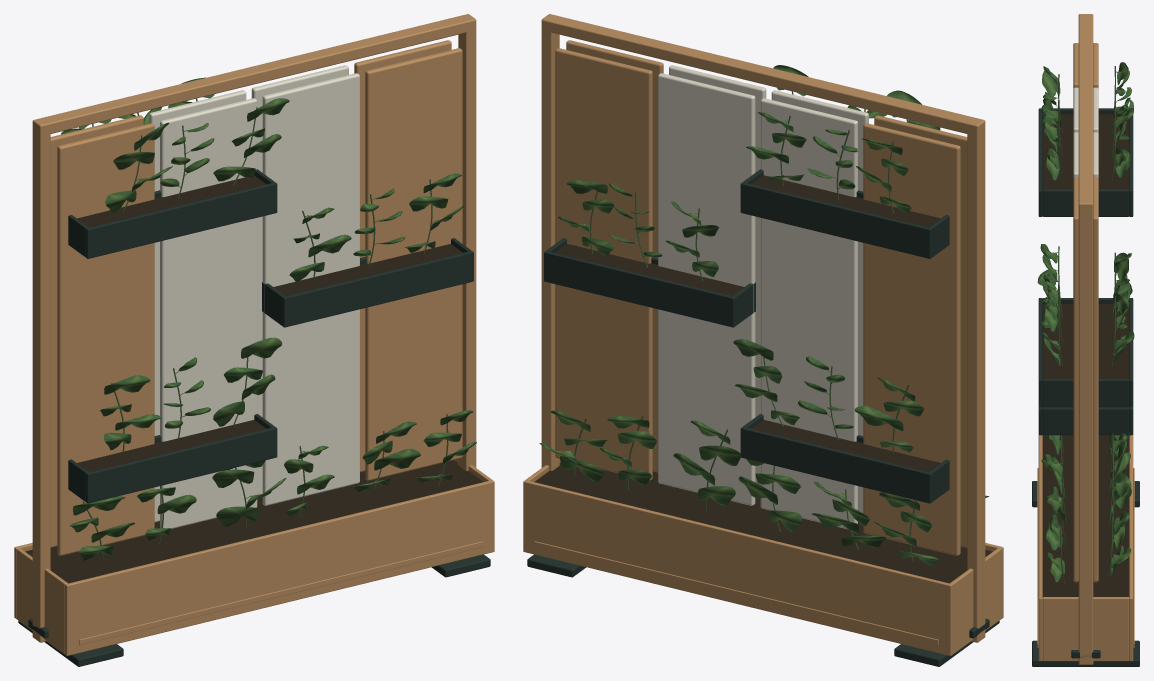
The model's file is botanicalDivider-6.glb.
3 renders of one model, left to right at view 1: azimuth 30°, elevation 25°; view 2: azimuth 150°, elevation 25°; view 3: azimuth 270°, elevation 25°, orthographic. The views are drawn at different scales.
Parts seen in each view (by area): view 1: Botanical_frame_finish, Botanical_ceramic, Botanical_powdercoat, Botanical_recessed_soil, Botanical_living_foliage, Botanical_connected_stems; view 2: Botanical_frame_finish, Botanical_ceramic, Botanical_powdercoat, Botanical_living_foliage, Botanical_recessed_soil, Botanical_connected_stems; view 3: Botanical_frame_finish, Botanical_recessed_soil, Botanical_powdercoat, Botanical_living_foliage, Botanical_connected_stems, Botanical_ceramic, Botanical_leaf_midribs.
Boxes of the visible parts, x1,y1,x2,y2 form: Botanical_frame_finish: (14, 14, 494, 655); Botanical_ceramic: (149, 65, 359, 528); Botanical_powdercoat: (18, 169, 490, 666); Botanical_recessed_soil: (25, 175, 483, 583); Botanical_living_foliage: (61, 77, 476, 560); Botanical_connected_stems: (82, 98, 450, 559); Botanical_frame_finish: (523, 14, 1003, 655); Botanical_ceramic: (658, 65, 868, 529); Botanical_powdercoat: (527, 169, 999, 666); Botanical_living_foliage: (539, 65, 988, 565); Botanical_recessed_soil: (534, 175, 992, 583); Botanical_connected_stems: (570, 91, 916, 561); Botanical_frame_finish: (1037, 14, 1134, 664); Botanical_recessed_soil: (1042, 114, 1129, 597); Botanical_powdercoat: (1032, 108, 1139, 666); Botanical_living_foliage: (1037, 62, 1134, 581); Botanical_connected_stems: (1056, 66, 1117, 584); Botanical_ceramic: (1073, 87, 1098, 177); Botanical_leaf_midribs: (1042, 70, 1131, 571).
Size of the model in its own units: 2 by 2.3 by 0.48.
